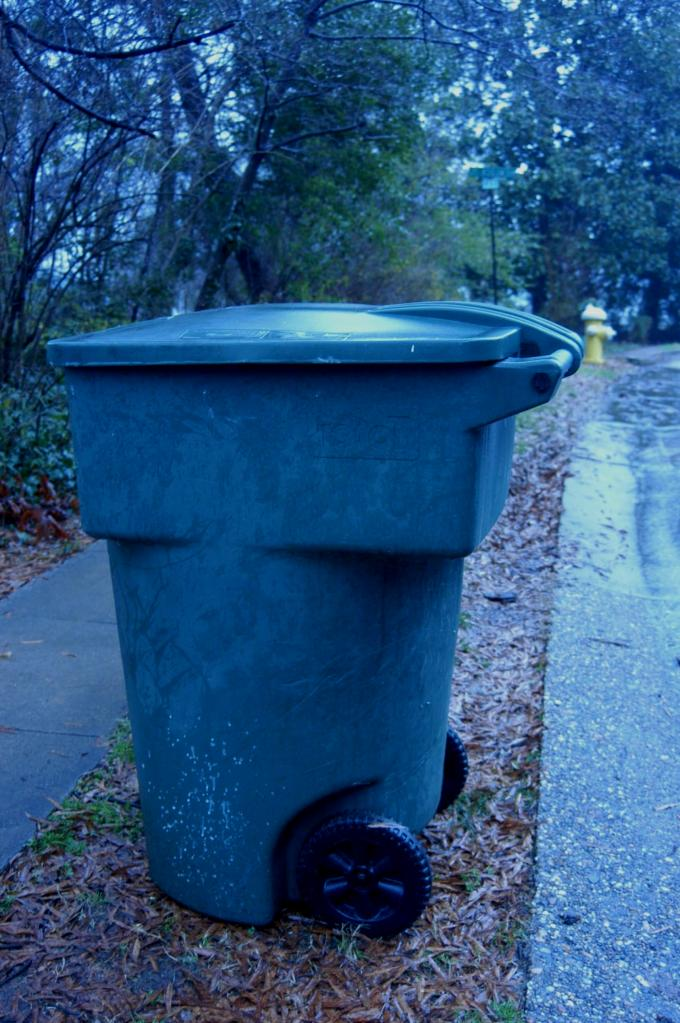dustbin: (16, 249, 613, 957)
